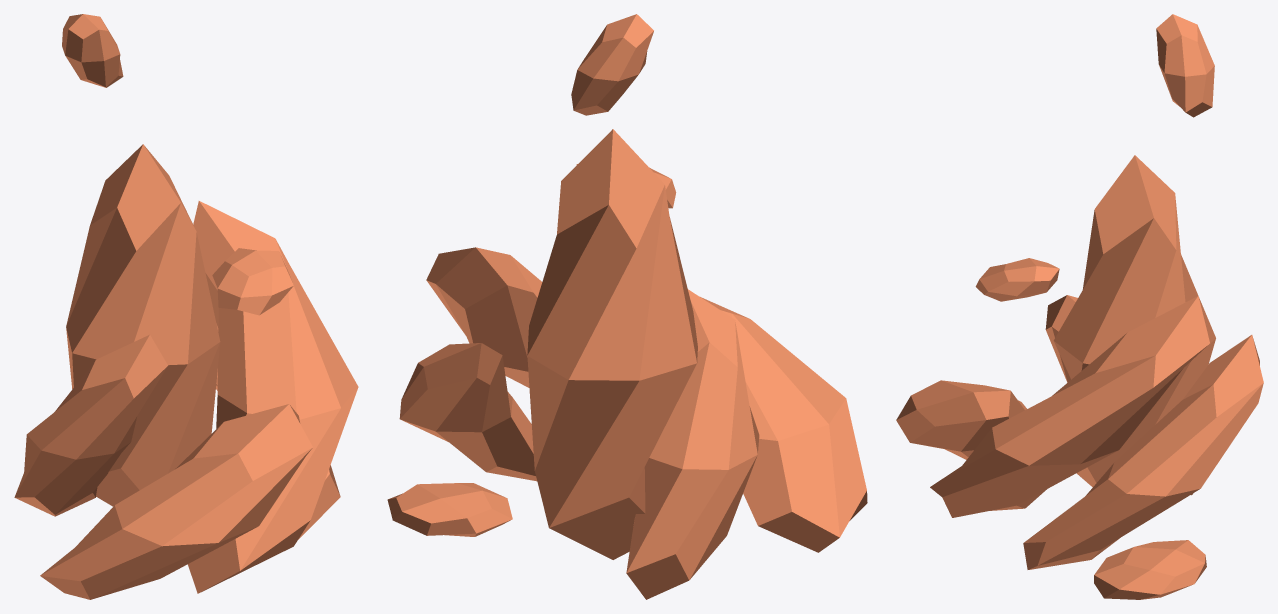
File: rock5.glb
3 views of the same model, side by side, from view 1: azimuth 30°, elevation 25°; view 2: azimuth 150°, elevation 25°; view 3: azimuth 270°, elevation 25° (orthographic). The views are drawn at different scales.
Visible parts, largest first — view 1: rock_06; view 2: rock_06; view 3: rock_06.
Boxes of the visible parts, bbox=[...] form: rock_06: bbox=[14, 14, 358, 599]; rock_06: bbox=[387, 14, 867, 599]; rock_06: bbox=[896, 14, 1263, 599].
Size of the model in its own units: 39.16 by 56.33 by 38.08.
Materials: 1 (1 with a texture image).
